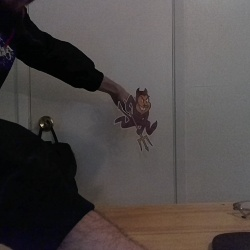sparky: (113, 86, 158, 151)
